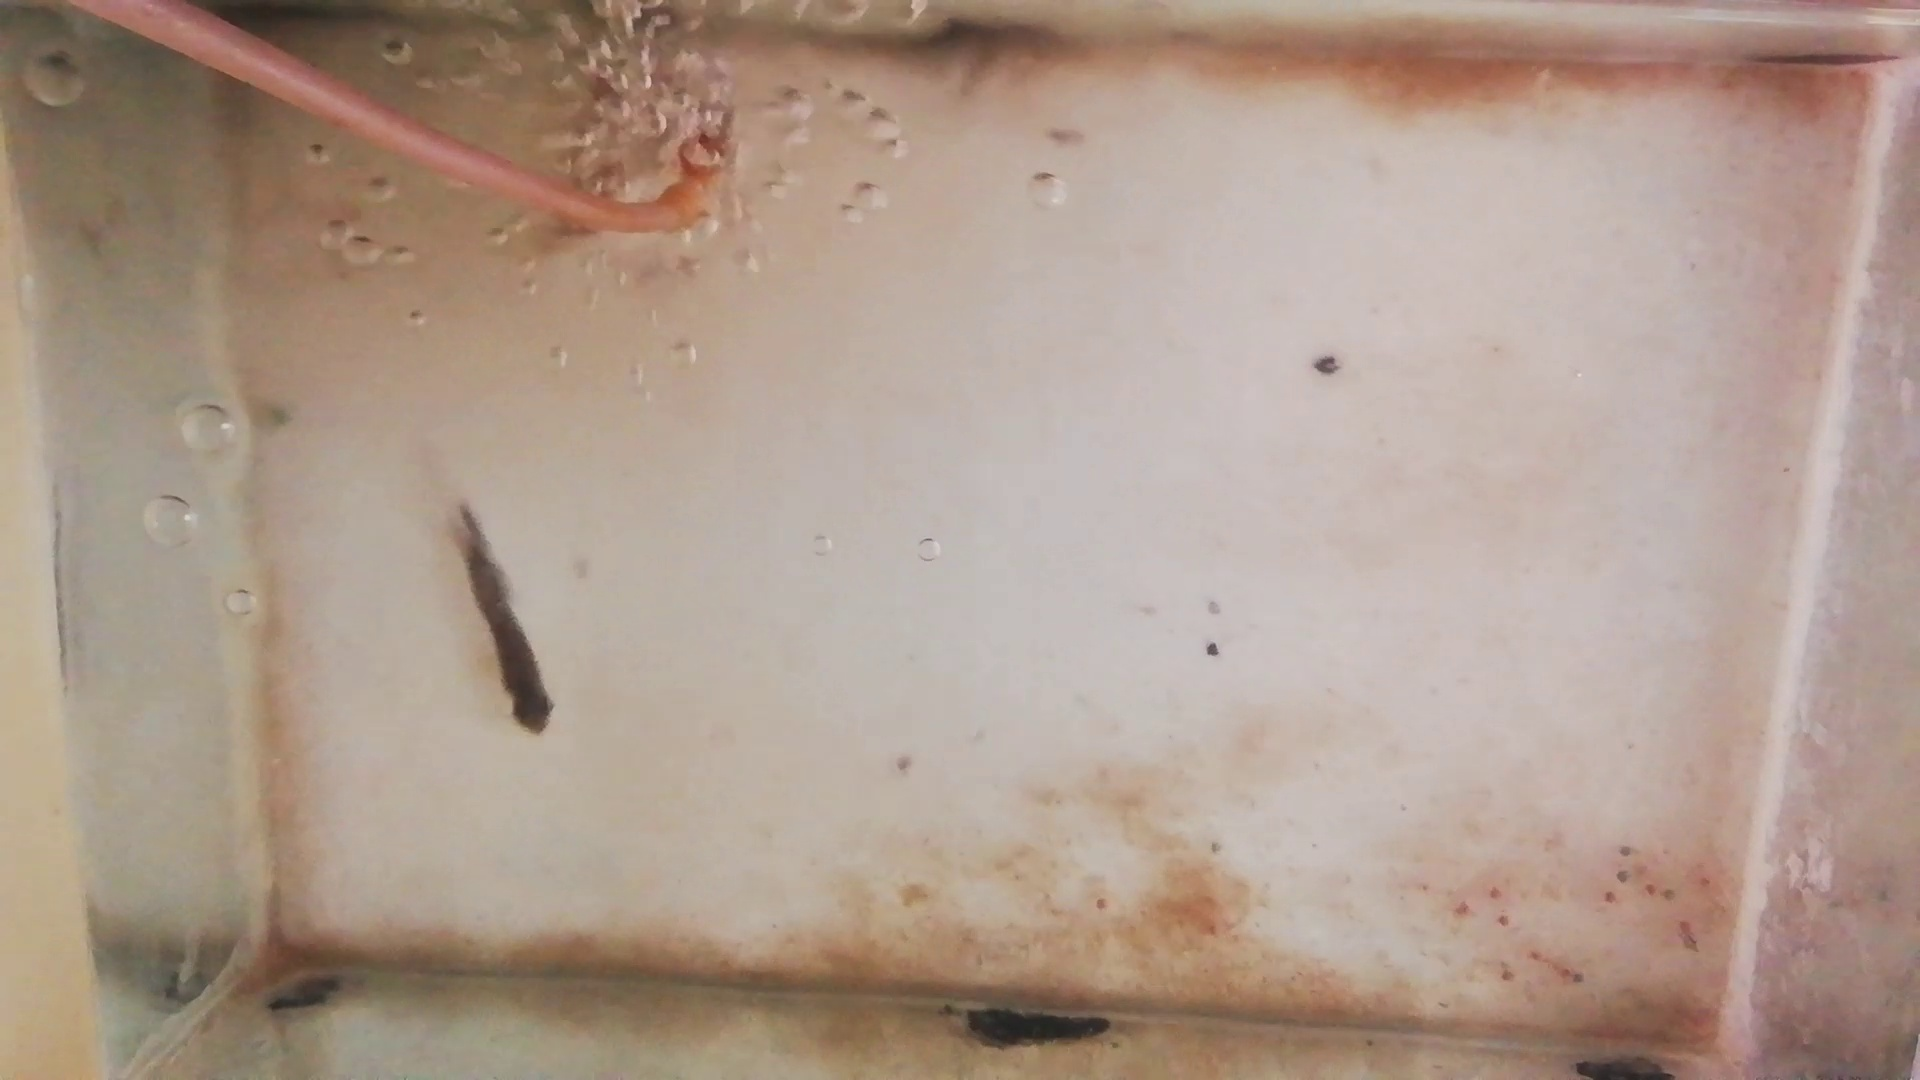fish: (460, 512, 551, 738), (570, 47, 613, 251)
